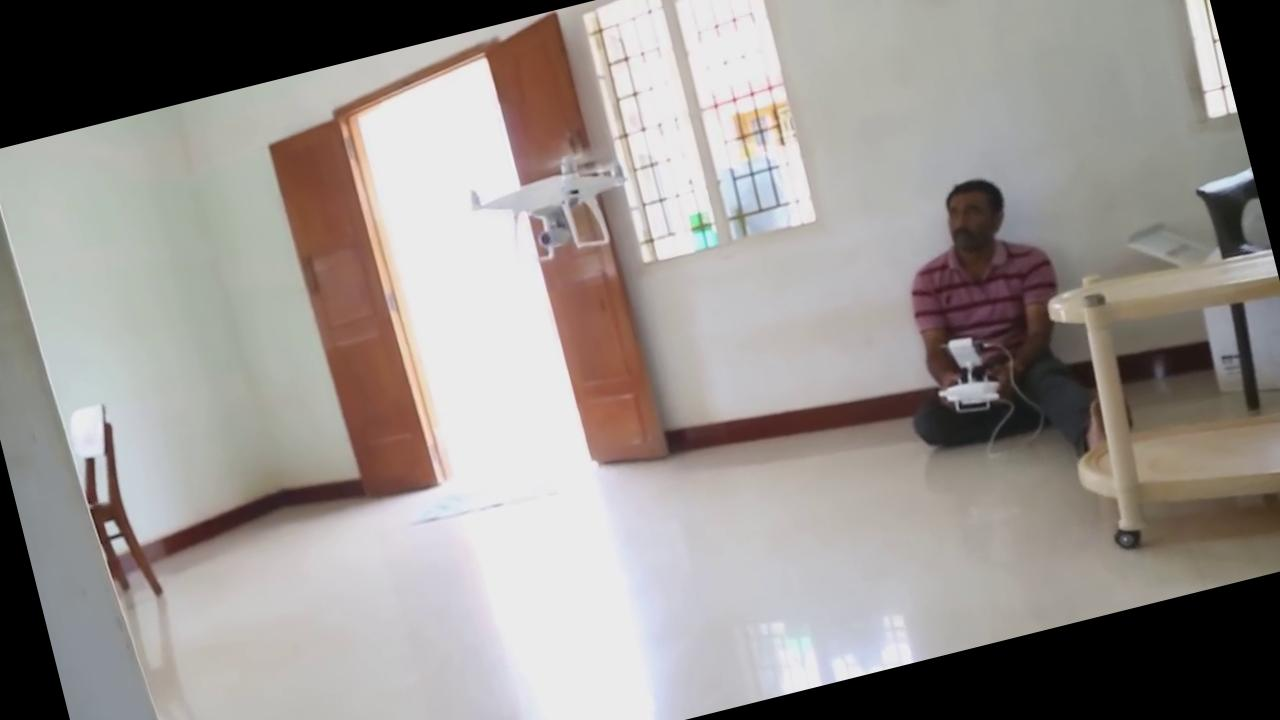drone: (450, 114, 662, 292)
